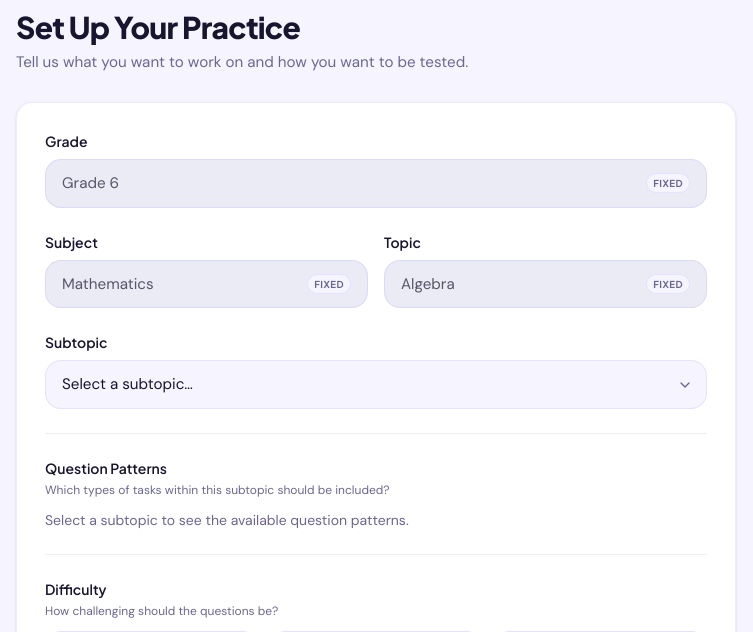
Test: Setup form › shows an inline error when question patterns fail to load
The image size is (753, 632).
Step 1. Select "Simplify & Calculate" in the dropdown named "subtopic" → (376, 385), box top-left (45, 360), bottom-right (707, 409)
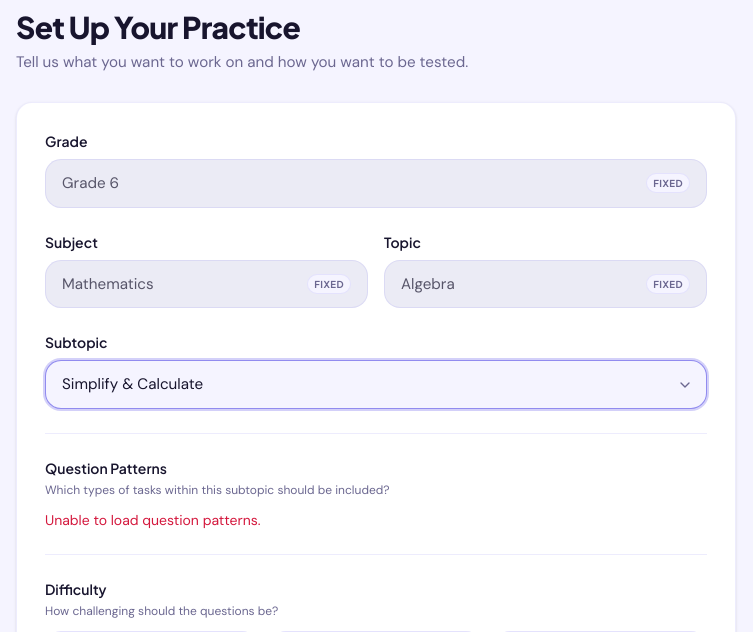
Expected: the message reads "Unable to load question patterns.", top-left (45, 511), bottom-right (261, 529)
